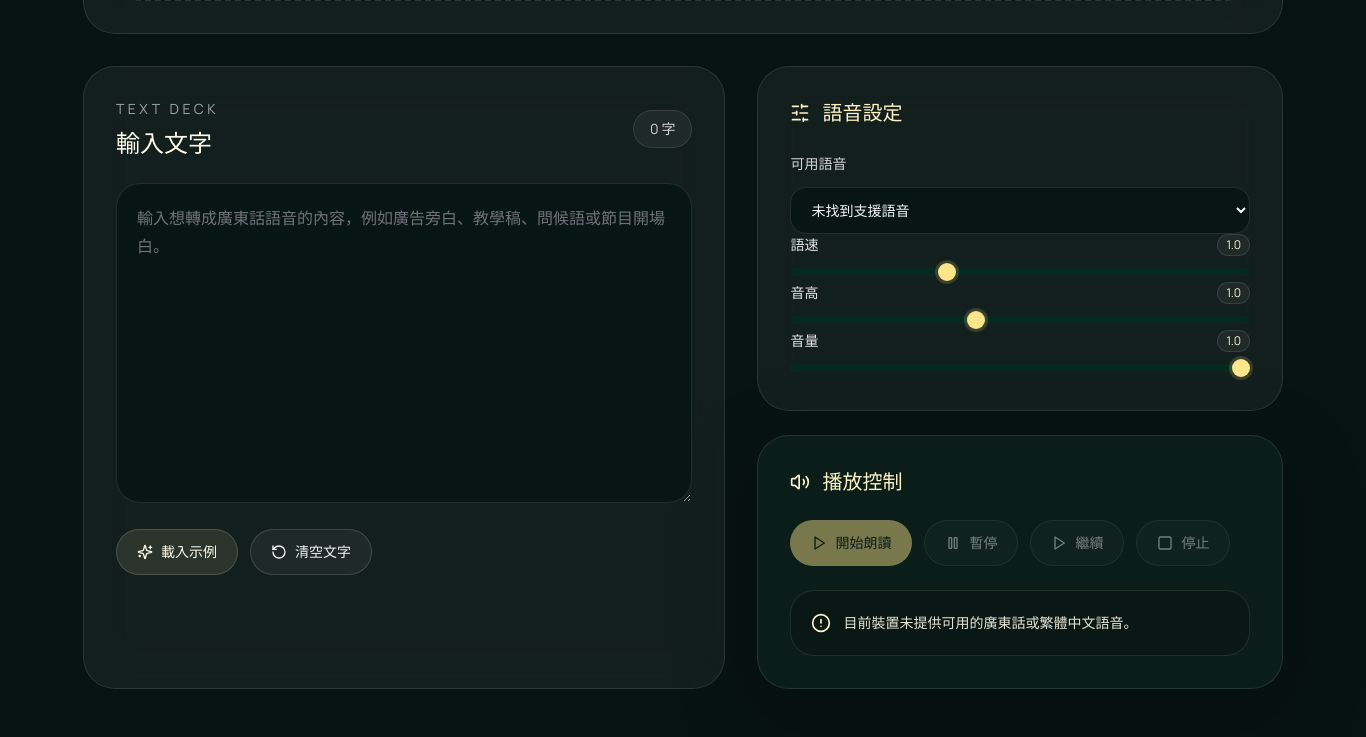
Test: Home › 點擊示例按鈕會帶入預設文字
(page scrolled)
Click the button "載入示例": {"x": 177, "y": 552} left=116, top=529, right=238, bottom=575
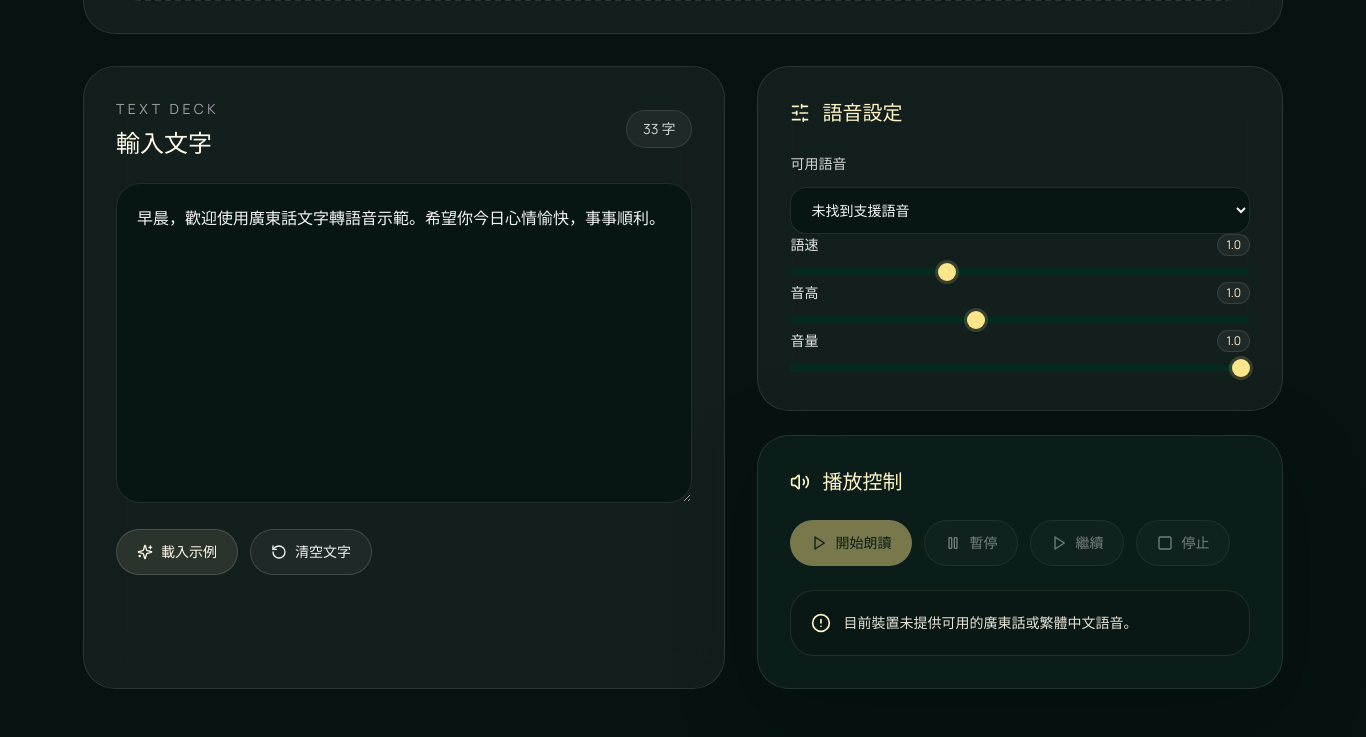
Now the text box named "輸入文字" holds "早晨，歡迎使用廣東話文字轉語音示範。希望你今日心情愉快，事事順利。", box left=116, top=183, right=692, bottom=503
